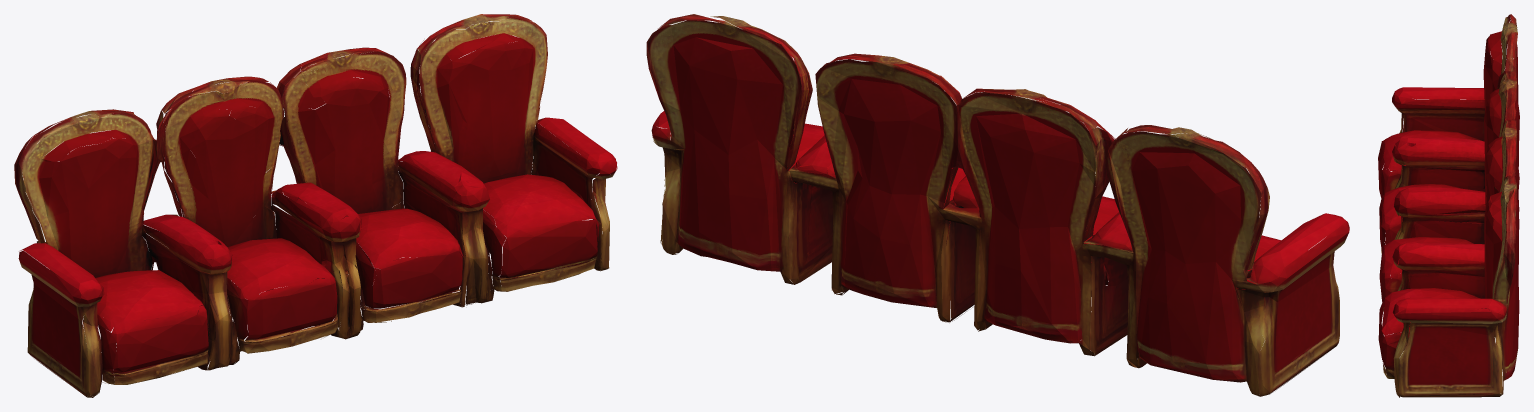
File: audience_seats.glb
3 renders of one model, left to right at view 1: azimuth 30°, elevation 25°; view 2: azimuth 150°, elevation 25°; view 3: azimuth 270°, elevation 25°, orthographic. The views are drawn at different scales.
Parts seen in each view (by area): view 1: geometry_0.007; view 2: geometry_0.007; view 3: geometry_0.007.
Part boxes in pixels (bbox=[...]): geometry_0.007: bbox=[14, 14, 617, 397]; geometry_0.007: bbox=[646, 14, 1349, 396]; geometry_0.007: bbox=[1378, 14, 1519, 397].
Bounding box in the file's own units: 1.5 × 0.5878 × 0.404.
Materials: 1 (1 with a texture image).
